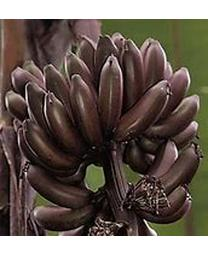banana: (0, 30, 202, 230)
